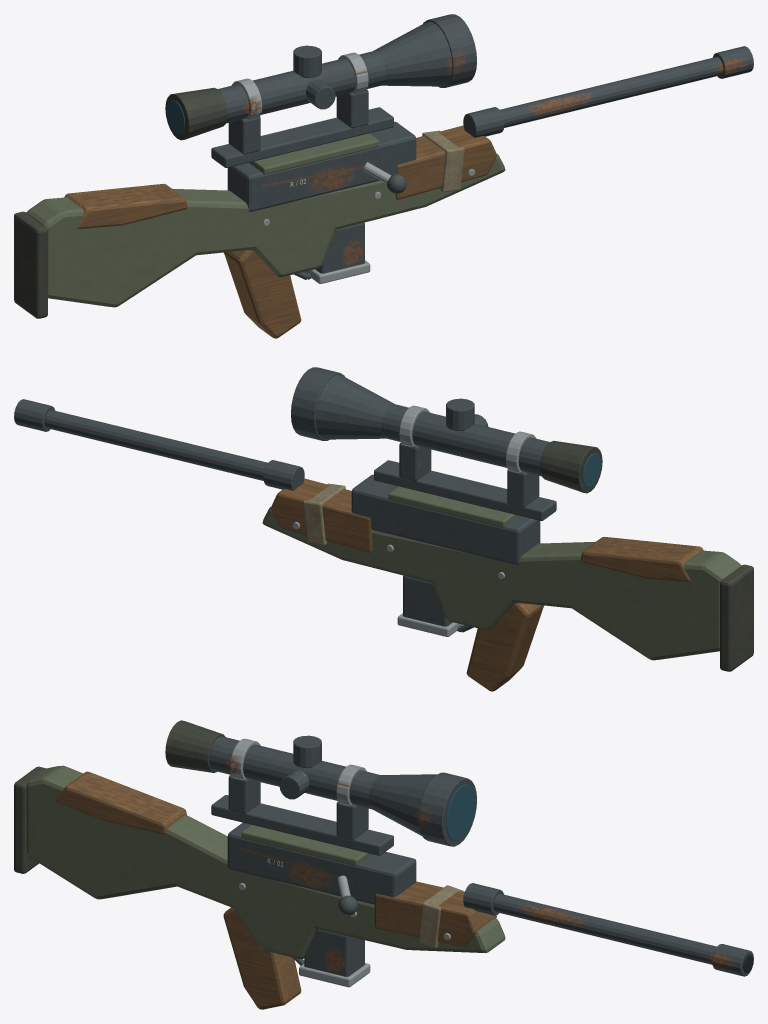
The model's file is sniper.glb.
3 views of the same model, one above another, from view 1: azimuth 30°, elevation 25°; view 2: azimuth 150°, elevation 25°; view 3: azimuth 330°, elevation 25° (orthographic).
Parts seen in each view (by area): view 1: SR | long shaped stock, SR | receiver upper casing, SR | long solid exterior barrel, SR | scope central tube, SR | grip warm wooden insert, SR | scope front taper, SR | worn wooden cheek rest, SR | wood fore-end panel, SR | scope rail, SR | stock heel rubber pad, SR | scope ocular bell, SR | upper olive cover (+12 smaller); view 2: SR | long shaped stock, SR | receiver upper casing, SR | scope central tube, SR | long solid exterior barrel, SR | grip warm wooden insert, SR | wood fore-end panel, SR | scope front taper, SR | worn wooden cheek rest, SR | scope rail, SR | stock heel rubber pad, SR | scope ocular bell, SR | upper olive cover (+11 smaller); view 3: SR | long shaped stock, SR | receiver upper casing, SR | long solid exterior barrel, SR | scope central tube, SR | worn wooden cheek rest, SR | wood fore-end panel, SR | grip warm wooden insert, SR | scope rail, SR | scope front taper, SR | scope front rim, SR | small magazine visual, SR | scope ocular bell (+13 smaller).
Boxes of the visible parts, left/top/right/bottom form: SR | long shaped stock: left=26, top=153, right=505, bottom=307; SR | receiver upper casing: left=227, top=121, right=416, bottom=211; SR | long solid exterior barrel: left=500, top=57, right=723, bottom=127; SR | scope central tube: left=218, top=50, right=386, bottom=123; SR | grip warm wooden insert: left=224, top=250, right=301, bottom=338; SR | scope front taper: left=373, top=21, right=452, bottom=86; SR | worn wooden cheek rest: left=64, top=183, right=187, bottom=229; SR | wood fore-end panel: left=395, top=125, right=496, bottom=199; SR | scope rail: left=211, top=107, right=393, bottom=167; SR | stock heel rubber pad: left=14, top=211, right=47, bottom=318; SR | scope ocular bell: left=165, top=87, right=227, bottom=140; SR | upper olive cover: left=249, top=133, right=379, bottom=174; SR | long shaped stock: left=262, top=506, right=741, bottom=660; SR | receiver upper casing: left=351, top=474, right=540, bottom=564; SR | scope central tube: left=381, top=403, right=549, bottom=476; SR | long solid exterior barrel: left=44, top=410, right=267, bottom=480; SR | grip warm wooden insert: left=466, top=603, right=543, bottom=691; SR | wood fore-end panel: left=271, top=478, right=372, bottom=552; SR | scope front taper: left=315, top=374, right=394, bottom=439; SR | worn wooden cheek rest: left=580, top=536, right=703, bottom=582; SR | scope rail: left=374, top=460, right=556, bottom=520; SR | stock heel rubber pad: left=720, top=564, right=753, bottom=671; SR | scope ocular bell: left=540, top=440, right=602, bottom=493; SR | upper olive cover: left=388, top=486, right=518, bottom=527; SR | long shaped stock: left=26, top=765, right=505, bottom=958; SR | receiver upper casing: left=227, top=822, right=416, bottom=904; SR | long solid exterior barrel: left=493, top=893, right=716, bottom=964; SR | scope central tube: left=209, top=736, right=380, bottom=809; SR | worn wooden cheek rest: left=56, top=771, right=186, bottom=834; SR | wood fore-end panel: left=374, top=881, right=496, bottom=946; SR | grip warm wooden insert: left=223, top=907, right=301, bottom=1009; SR | scope rail: left=211, top=795, right=393, bottom=855; SR | scope front taper: left=369, top=774, right=436, bottom=835; SR | scope front rim: left=418, top=772, right=476, bottom=846; SR | small magazine visual: left=304, top=930, right=364, bottom=976; SR | scope ocular bell: left=165, top=720, right=225, bottom=772.
Bounding box in the file's own units: 1.5 × 0.5377 × 0.168.
6 materials, 3 textured.
